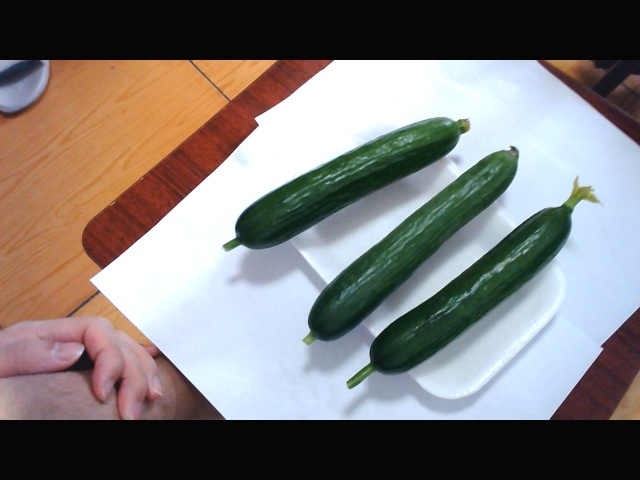cucumber: (315, 165, 578, 379), (214, 106, 462, 225)
